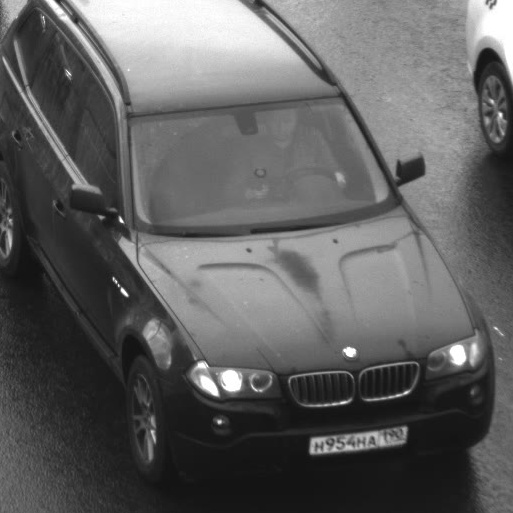plate: (298, 415, 413, 462)
